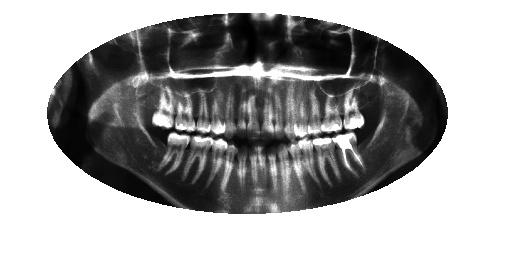Fillings: (183, 136, 214, 184), (313, 137, 340, 186), (160, 131, 190, 175), (206, 138, 229, 185), (150, 86, 175, 129), (299, 139, 321, 187), (343, 88, 366, 130), (321, 94, 343, 134), (175, 91, 196, 132), (211, 91, 227, 135), (309, 86, 322, 137), (196, 92, 211, 133), (285, 86, 296, 141), (298, 85, 309, 139)
Implant: (331, 132, 366, 181)
